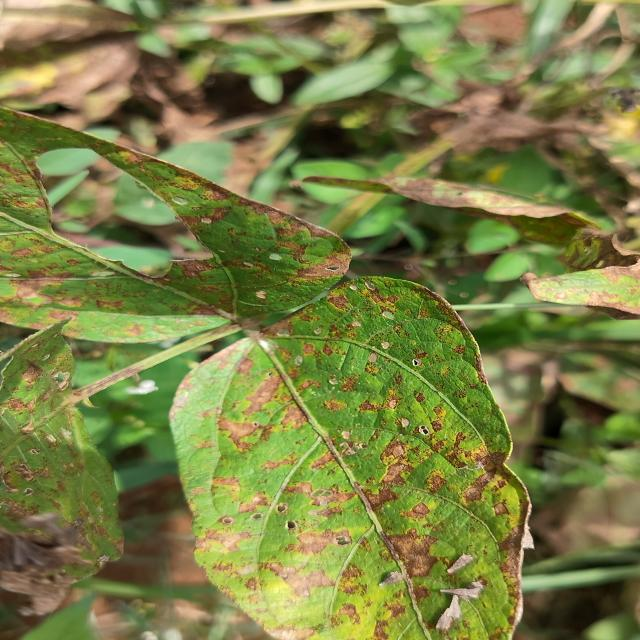Black gram_leaf spot: (169, 277, 529, 640)
